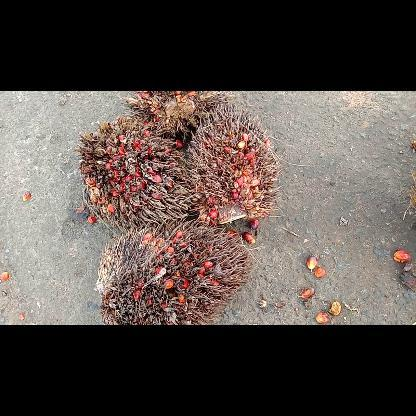Terlalu masak: (94, 218, 254, 324), (69, 113, 199, 235), (186, 102, 286, 230), (121, 91, 235, 145)
